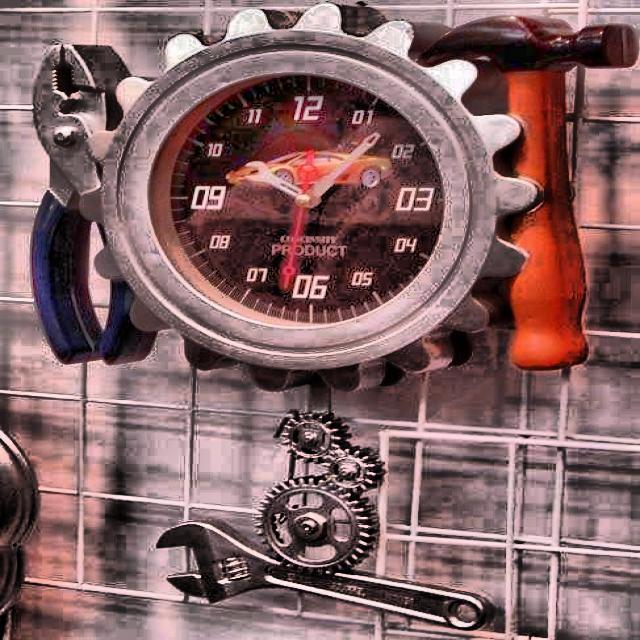hammer: (422, 13, 638, 376)
